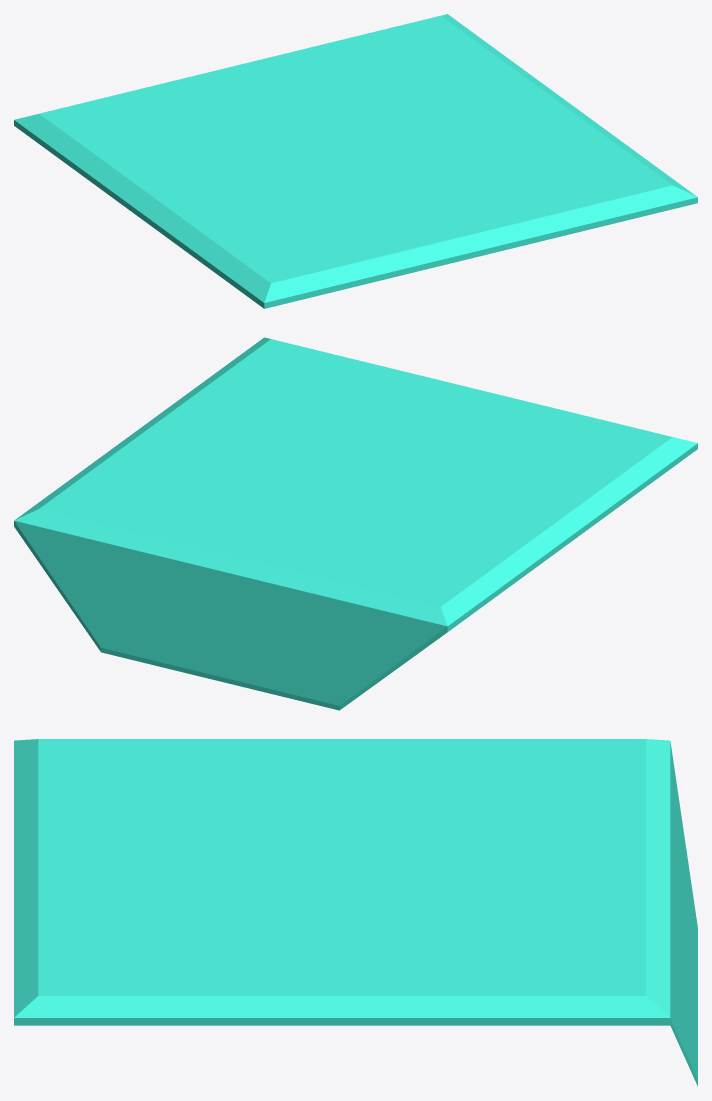
The model's file is FirstElevator.fbx.
3 renders of one model, top to bottom at view 1: azimuth 30°, elevation 25°; view 2: azimuth 150°, elevation 25°; view 3: azimuth 270°, elevation 25°, orthographic. The views are drawn at different scales.
Parts seen in each view (by area): view 1: Cube.002; view 2: Cube.002; view 3: Cube.002.
Boxes of the visible parts, bbox=[...] form: Cube.002: bbox=[14, 14, 697, 308]; Cube.002: bbox=[14, 337, 697, 710]; Cube.002: bbox=[14, 739, 697, 1086].
Size of the model in its own units: 200 by 48.13 by 208.
